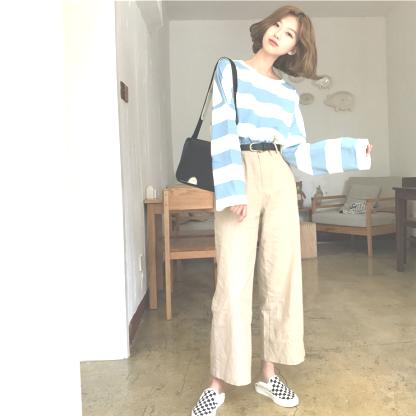dress: (208, 55, 370, 214), (209, 144, 310, 387)
